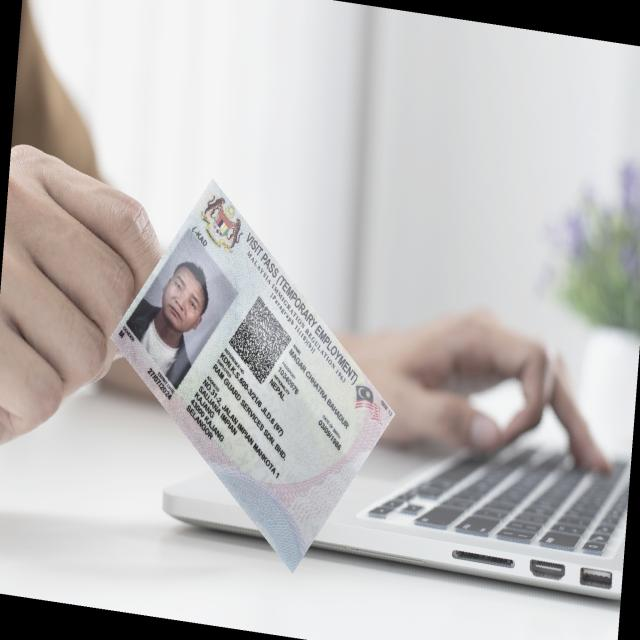ikad-temp: (109, 177, 396, 572)
